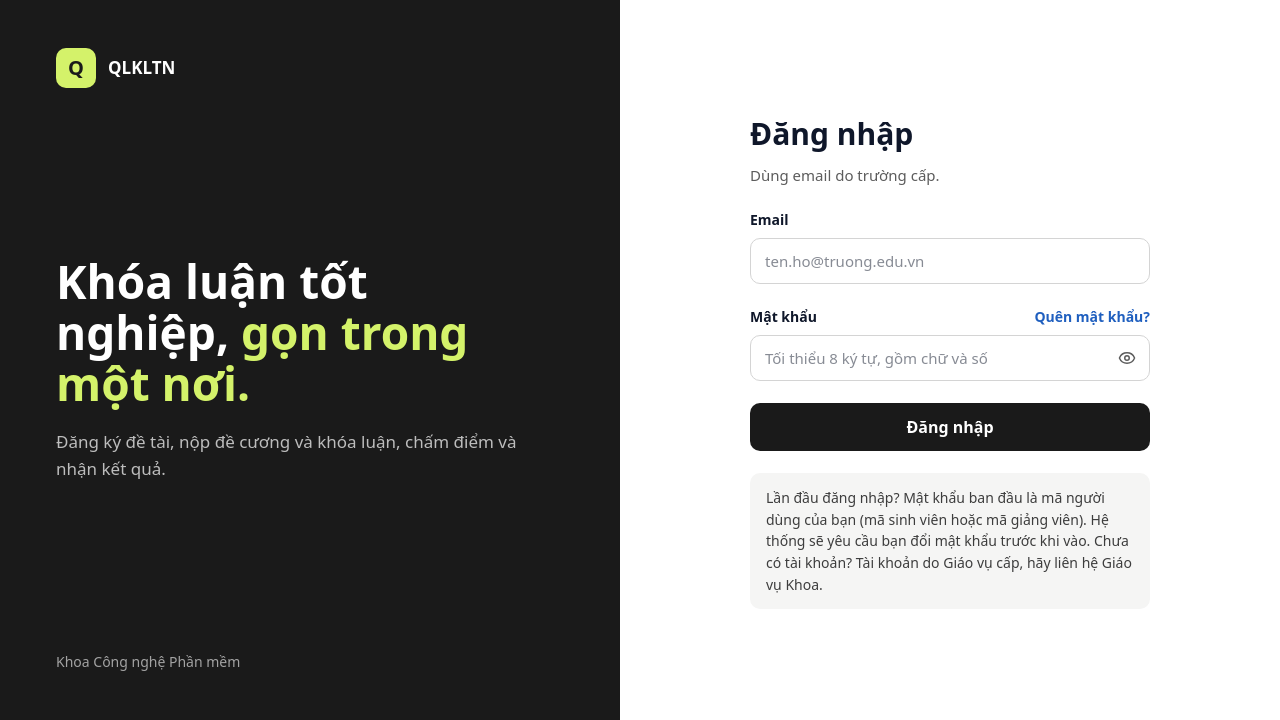
Test: shows one generic message for wrong credentials
Type "an.nv@truong.edu.vn" into the field labelled "Email".
click(950, 261); type("an.nv@truong.edu.vn")  # box [750,238,1150,284]
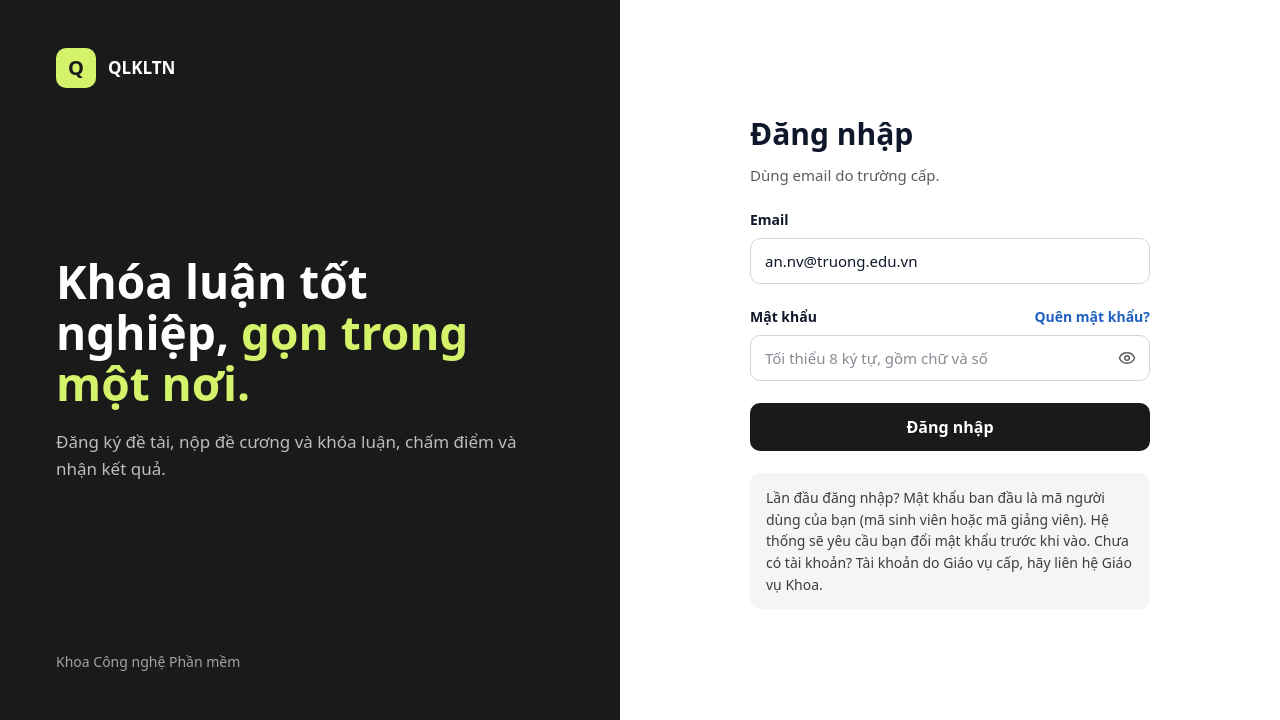
Type "sai12345" into the password field labelled "Mật khẩu".
click(950, 358); type("sai12345")  # box [750,335,1150,381]
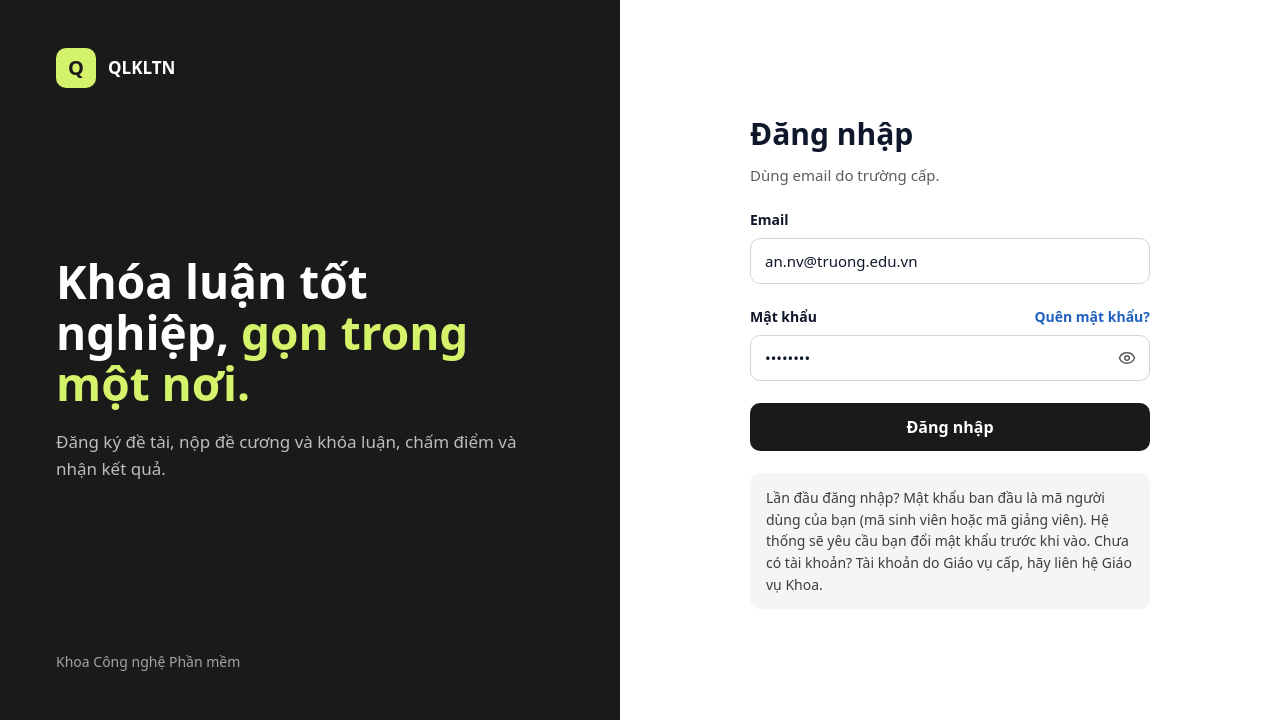
Click the button "Đăng nhập".
click(950, 427)  # box [750,403,1150,451]
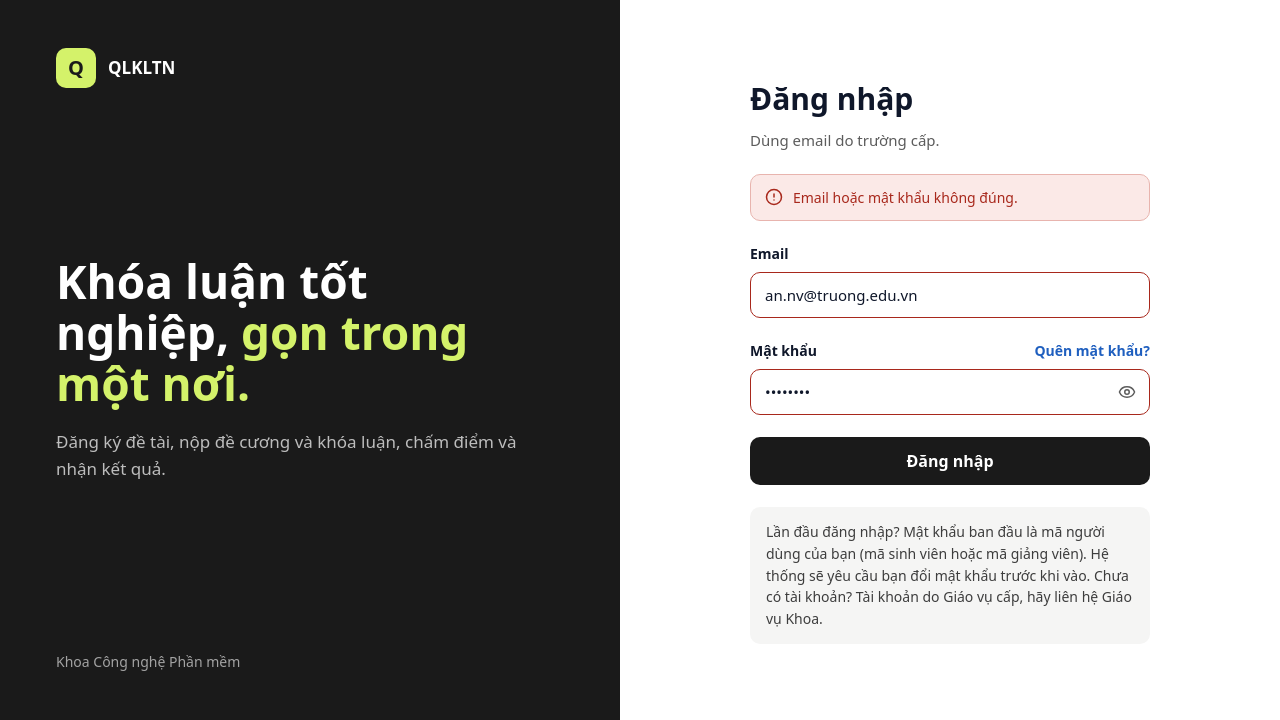
Expected: the message reads "Email hoặc mật khẩu không đúng.", [793,188,1018,207]
